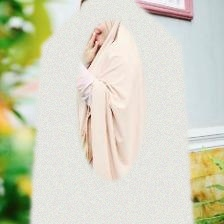Mukena: (26, 28, 197, 224)
